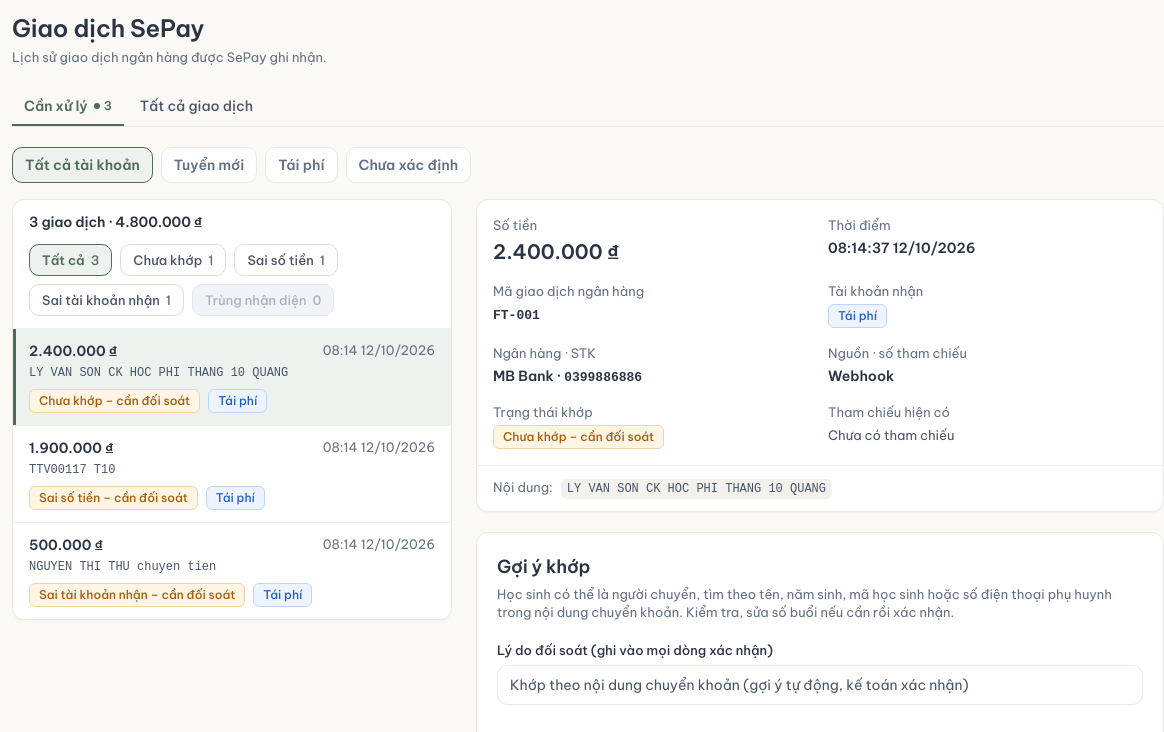
Test: SePay review workspace › filters the loaded queue by match status with real counts
Expected: the button "Trùng nhận diện 0" is disabled, [192,284,334,316]
Click the button "Sai số tiền 1" at point(286, 260), box [234,244,338,276]
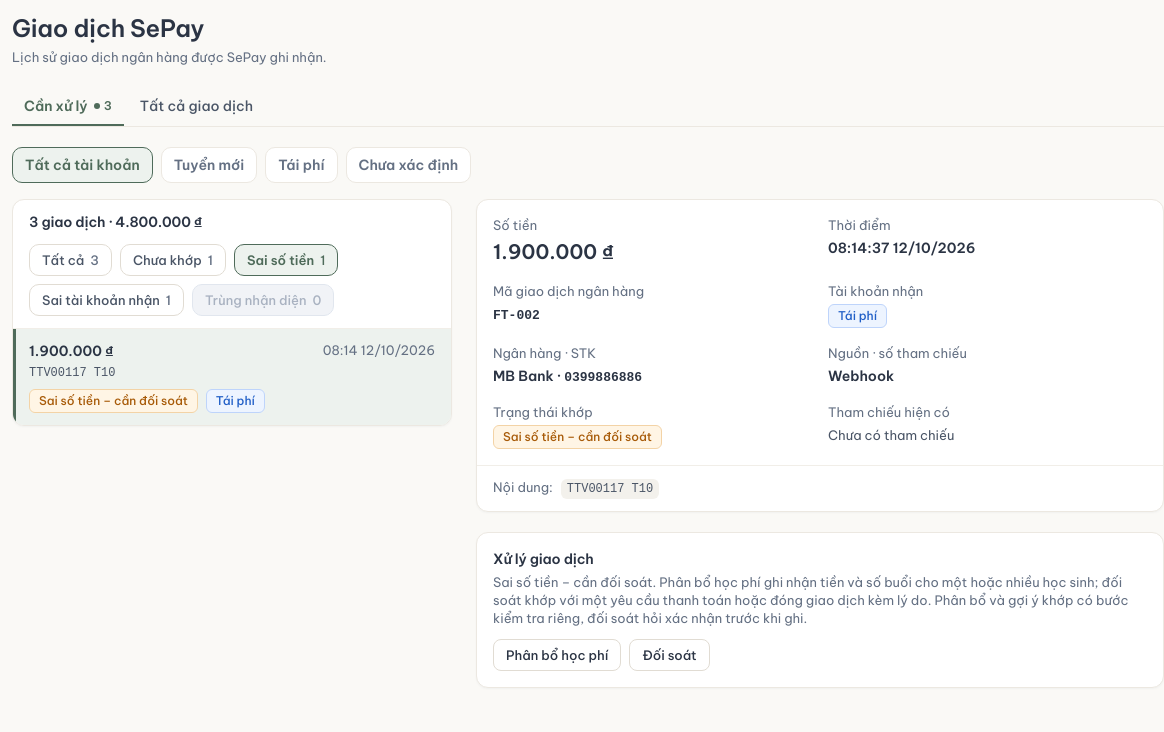
Expected: the number of list items is 1, [13,329,451,425]
Expected: the text "FT-002" is shown, [493,308,540,323]
